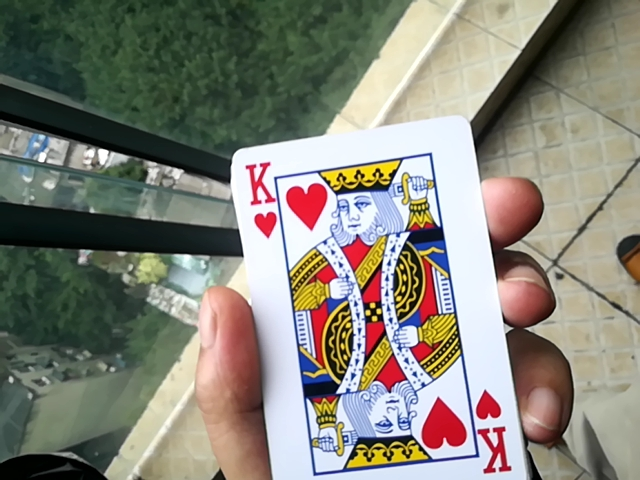hx k: (221, 116, 510, 475)
